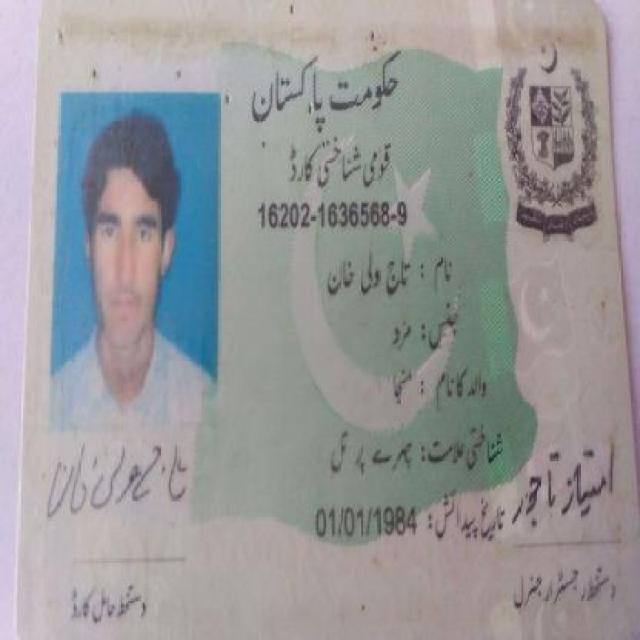Front: (28, 8, 634, 622)
